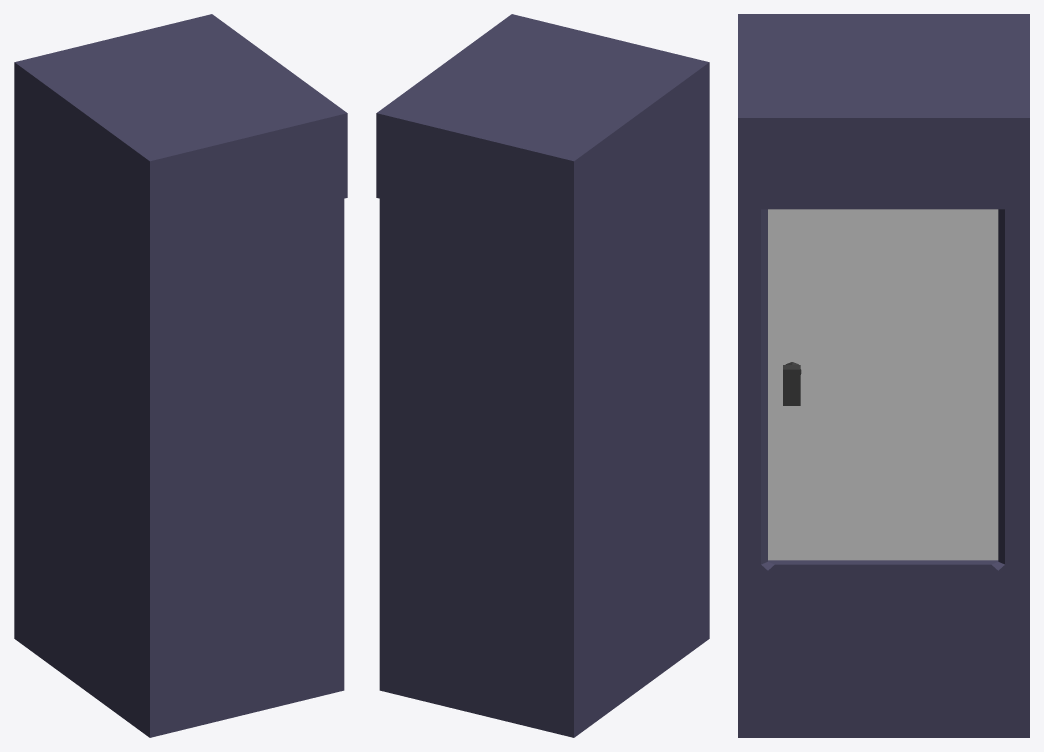
The model's file is fridge.fbx.
3 views of the same model, side by side, from view 1: azimuth 30°, elevation 25°; view 2: azimuth 150°, elevation 25°; view 3: azimuth 270°, elevation 25° (orthographic). The views are drawn at different scales.
Parts seen in each view (by area): view 1: Fridge; view 2: Fridge; view 3: Fridge.
Part boxes in pixels (box(x1,y1,x2,y2)): Fridge: box(14, 14, 347, 737); Fridge: box(376, 14, 709, 737); Fridge: box(738, 14, 1029, 737).
Size of the model in its own units: 181 by 492 by 210.
